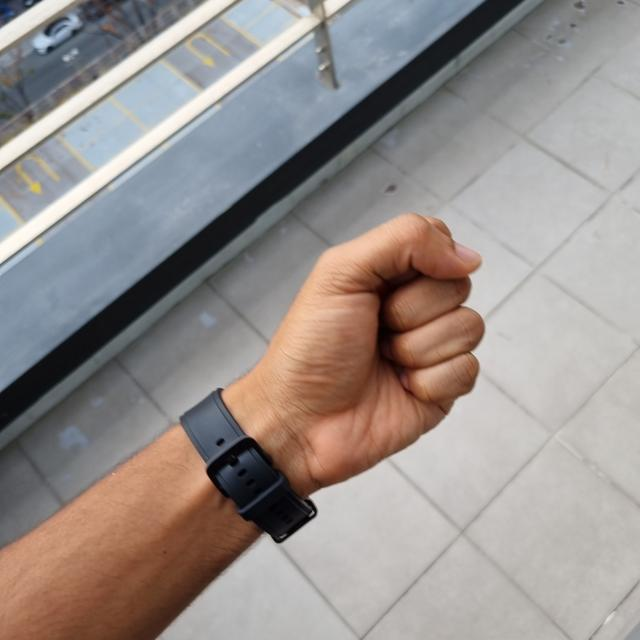Rock: (229, 216, 485, 492)
